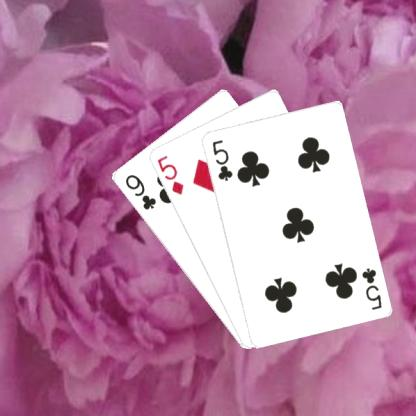5C: (358, 264, 383, 311), (209, 137, 233, 182)
5D: (154, 152, 184, 196)
9C: (121, 171, 158, 211)
